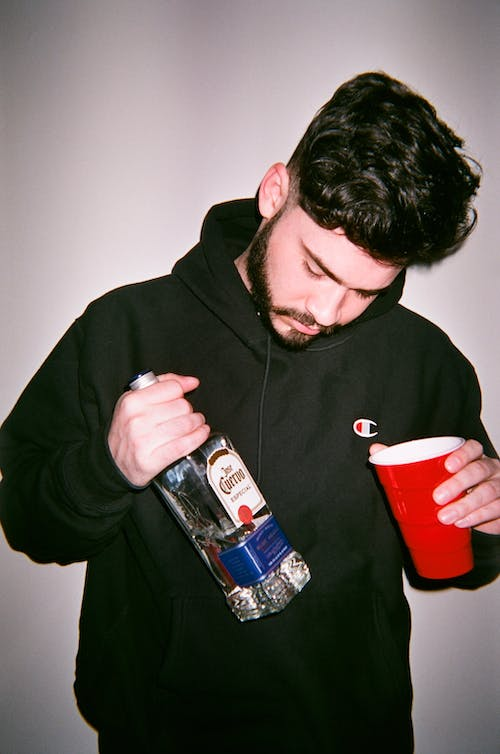alcohol: (127, 365, 312, 625)
